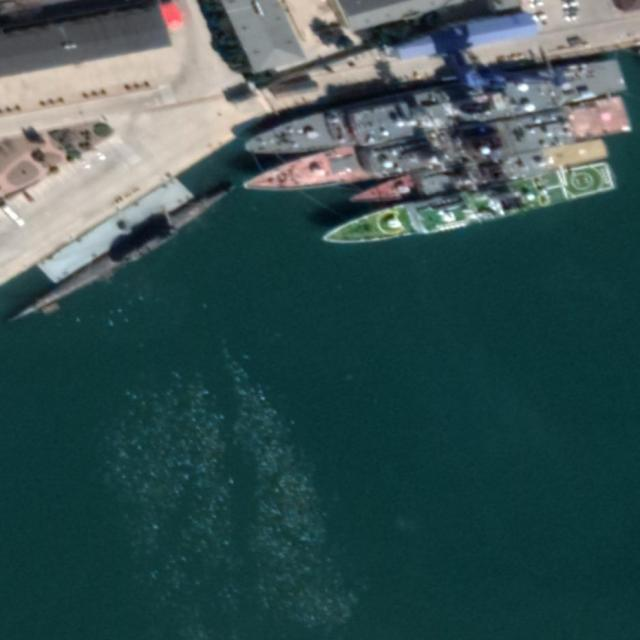Frigate: (242, 54, 627, 166), (242, 96, 630, 204), (319, 161, 617, 252), (342, 136, 612, 212)
Submarine: (1, 173, 241, 336)
